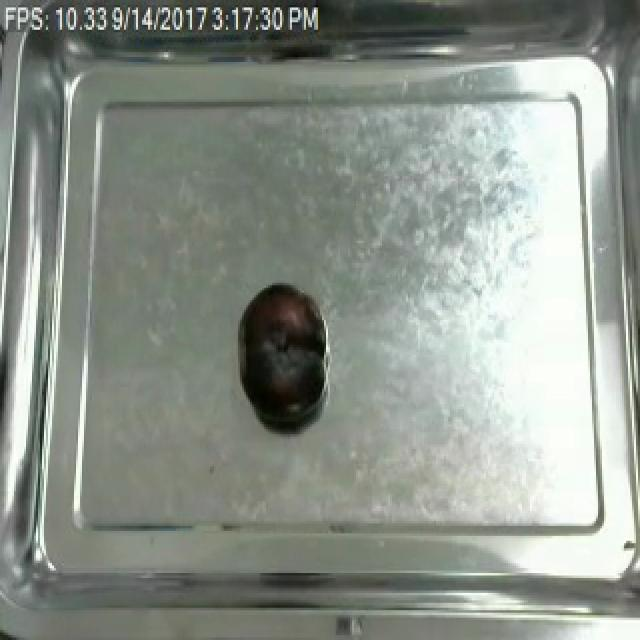Fruit: (236, 278, 324, 422)
